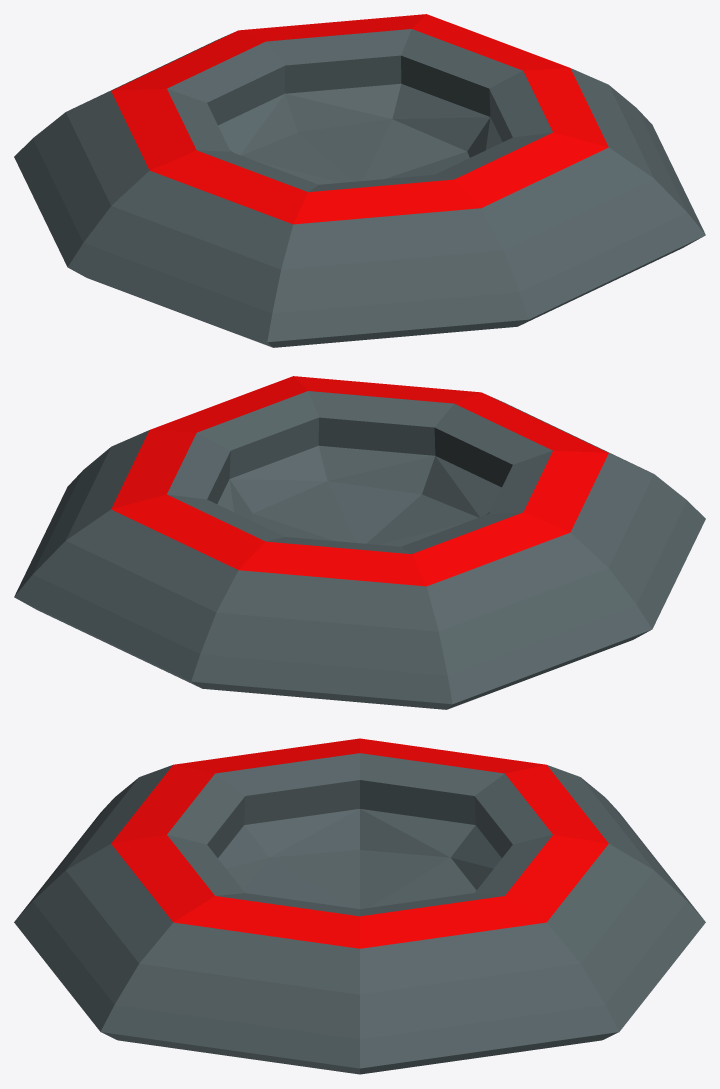
File: SwitchRed.fbx
3 views of the same model, one above another, from view 1: azimuth 30°, elevation 25°; view 2: azimuth 150°, elevation 25°; view 3: azimuth 270°, elevation 25° (orthographic). The views are drawn at different scales.
Visible parts, largest first — view 1: SwitchRed; view 2: SwitchRed; view 3: SwitchRed.
Part boxes in pixels (bbox=[...]): SwitchRed: bbox=[14, 14, 705, 347]; SwitchRed: bbox=[14, 376, 705, 709]; SwitchRed: bbox=[14, 738, 705, 1074].
Bounding box in the file's own units: 285 × 57.93 × 285.
